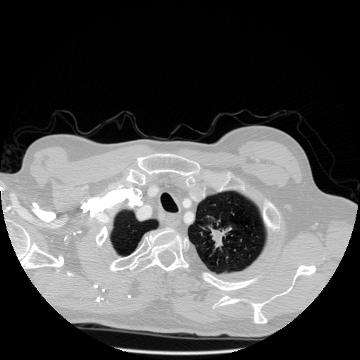nodule: (210, 227, 226, 243)
